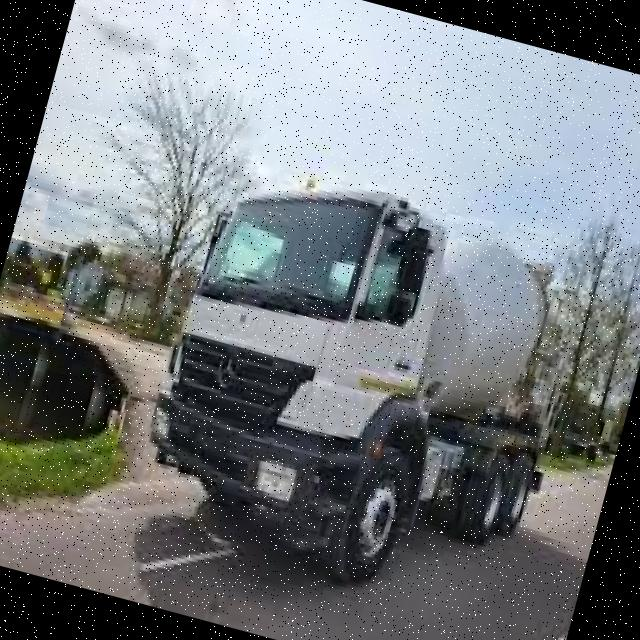Mixer Truck: (114, 142, 610, 634)
